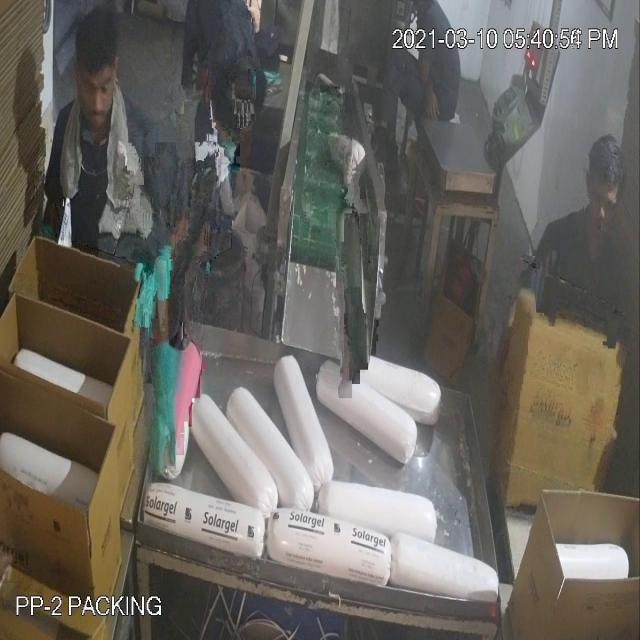No_Gloves: (486, 284, 522, 454)
